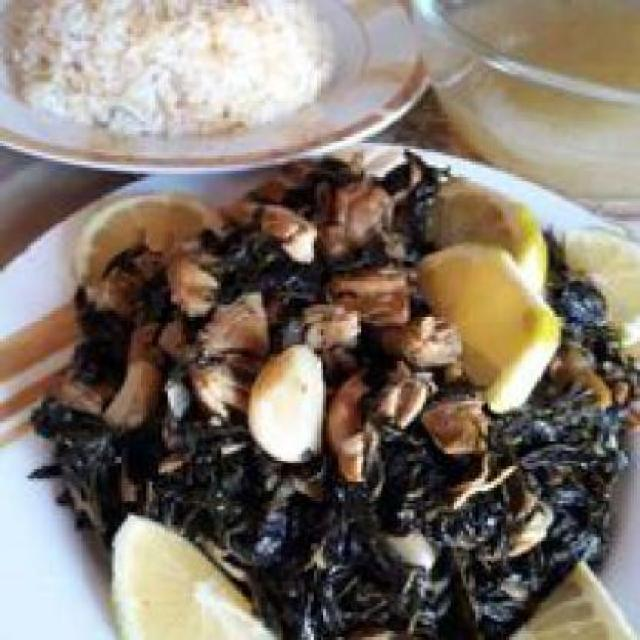molokhia: (46, 161, 622, 637)
